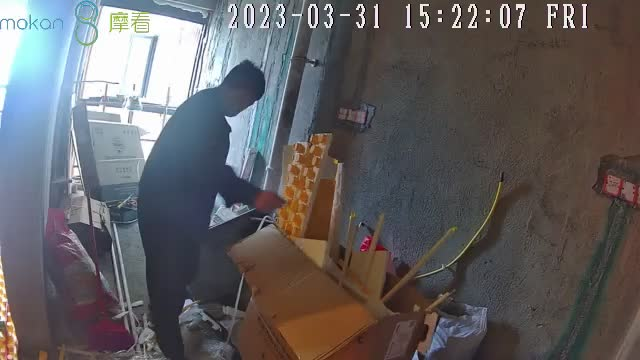people: (137, 58, 286, 360)
window: (80, 4, 207, 132)
